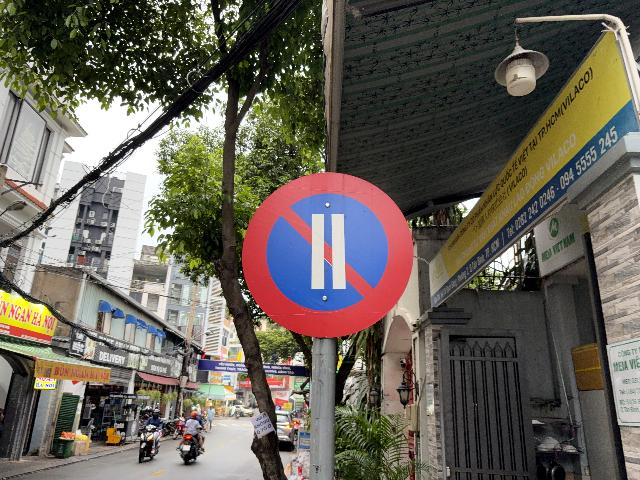cam-do-xe-ngay-chan: (240, 170, 413, 339)
